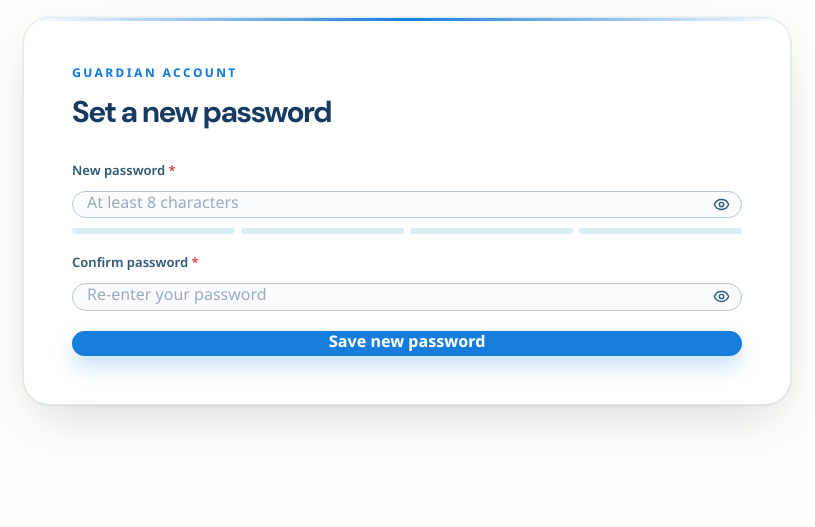
Scenario: ResetPassword › checks the two passwords before sending anything
The image size is (815, 527).
Type "fresh-pass-2026" into the password field labelled "New password *" at (407, 205), box x1=72 y1=191 x2=742 y2=218
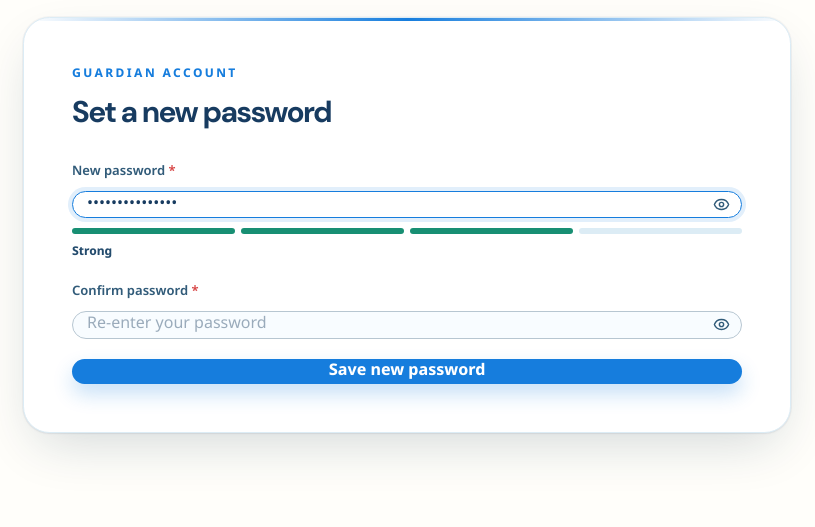
Type "other-pass-2026" into the password field labelled "Confirm password *" at (407, 325), box x1=72 y1=311 x2=742 y2=339
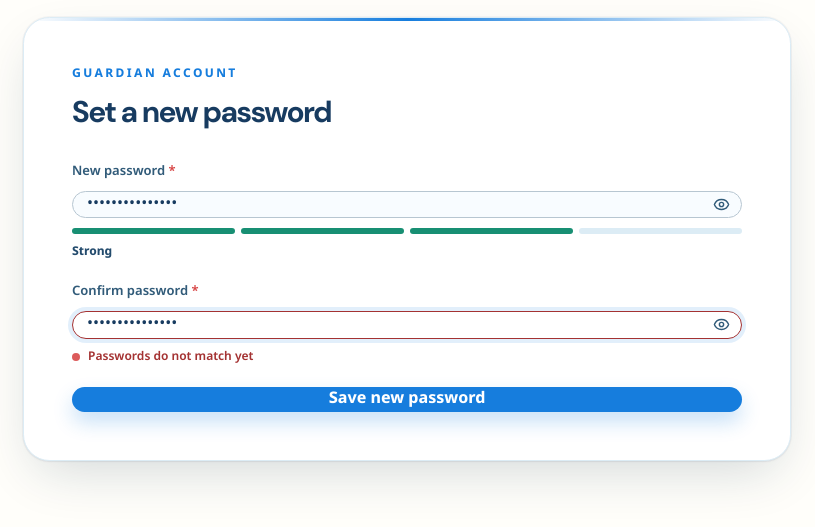
Click the button "Save new password" at (407, 400), box x1=72 y1=387 x2=742 y2=412
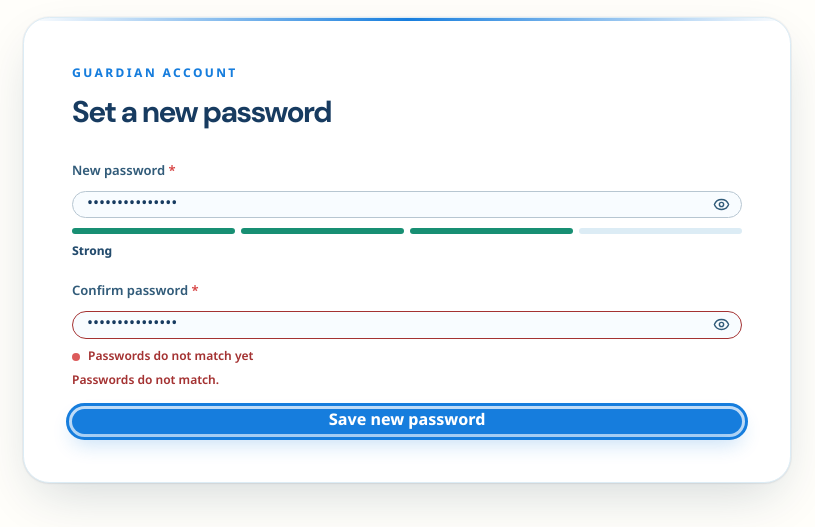
expect the text "Passwords do not match." is shown: met, box x1=72 y1=373 x2=219 y2=389
